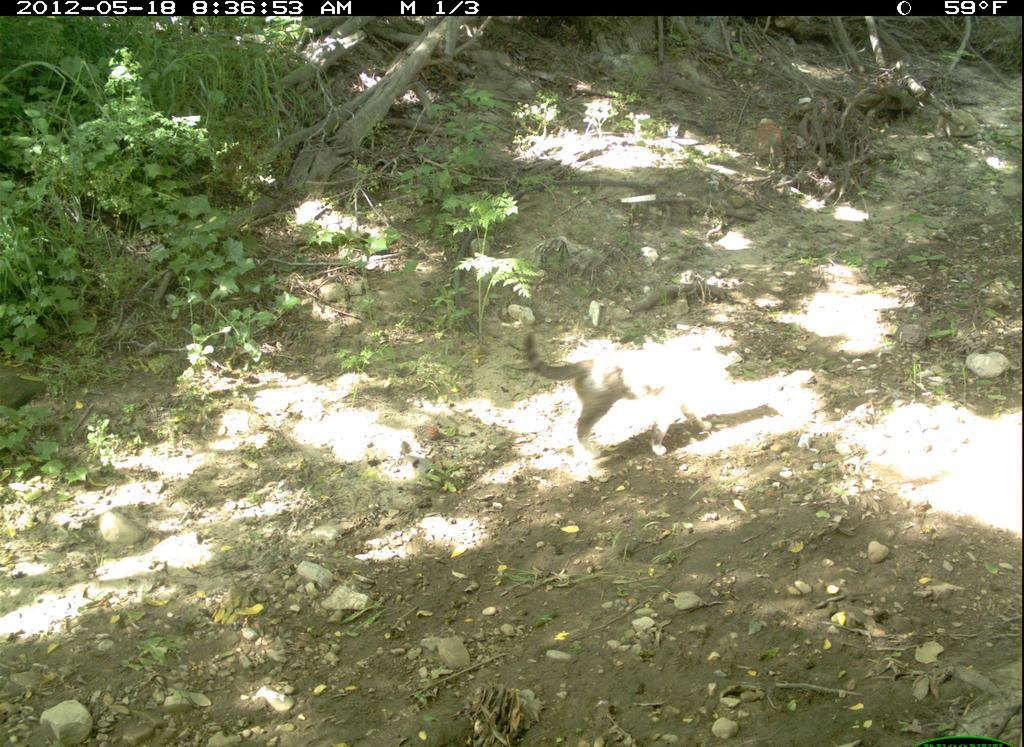cat: (523, 321, 745, 466)
